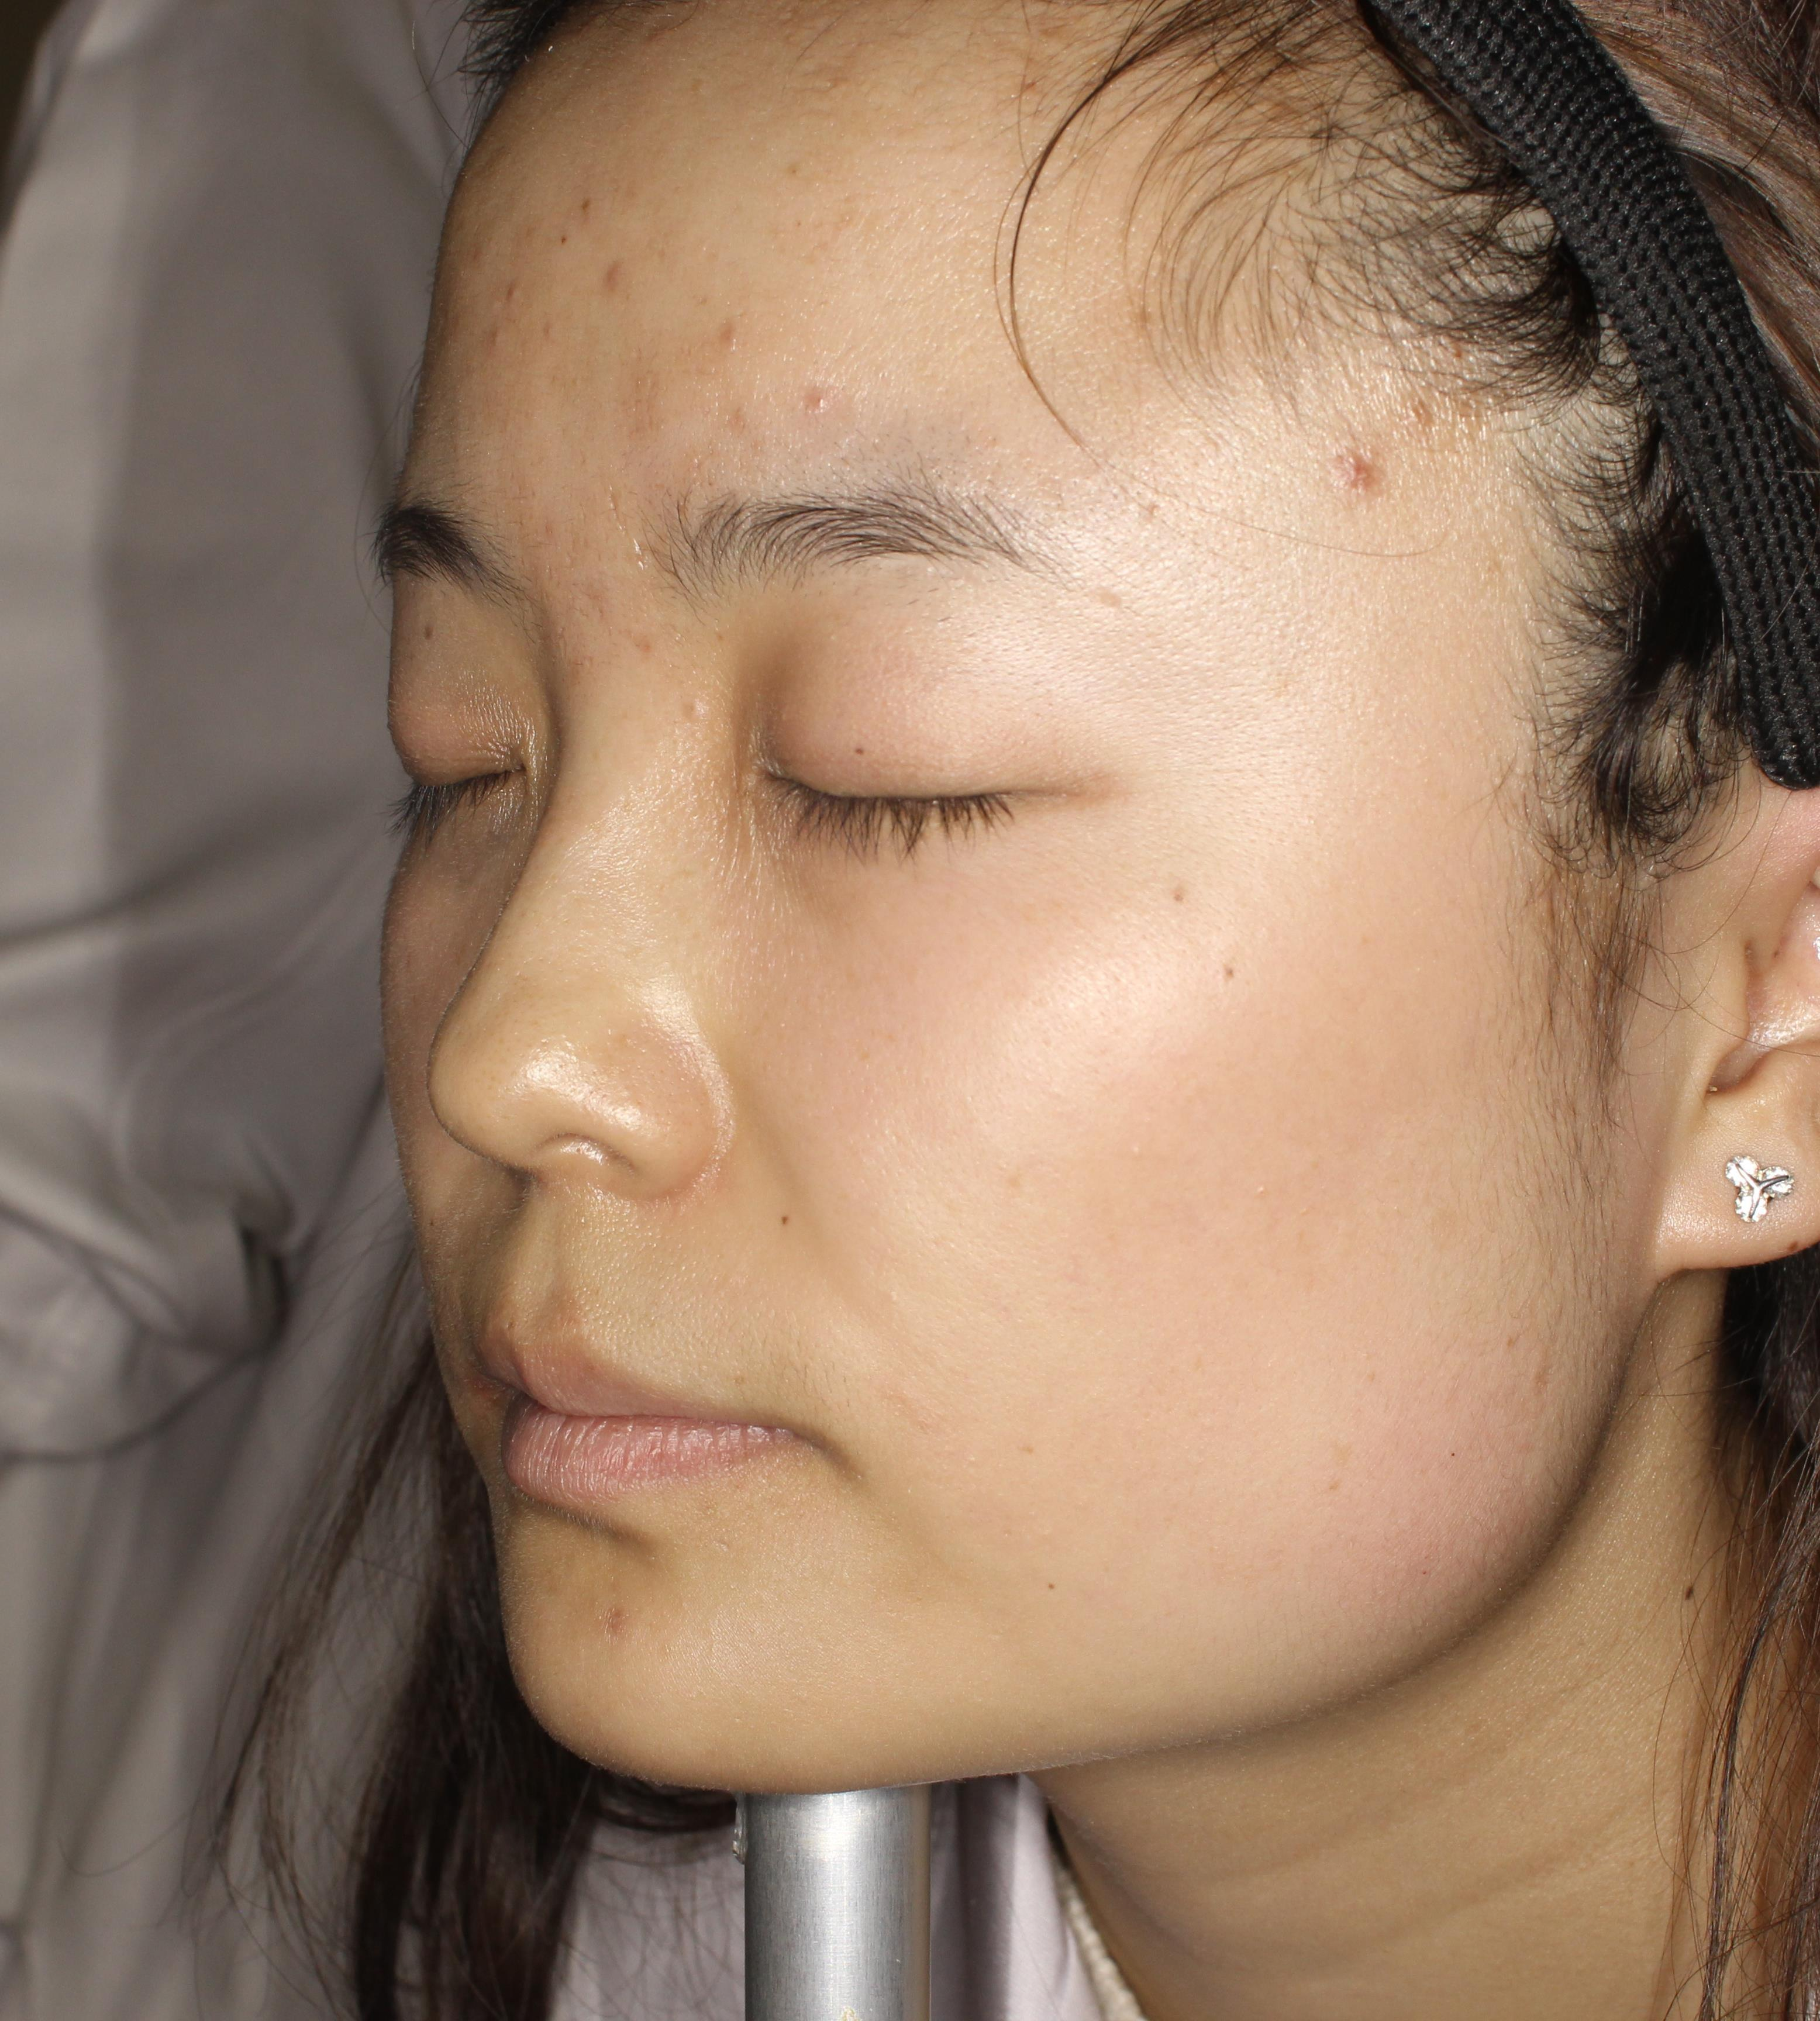fore: (1323, 437, 1400, 523)
